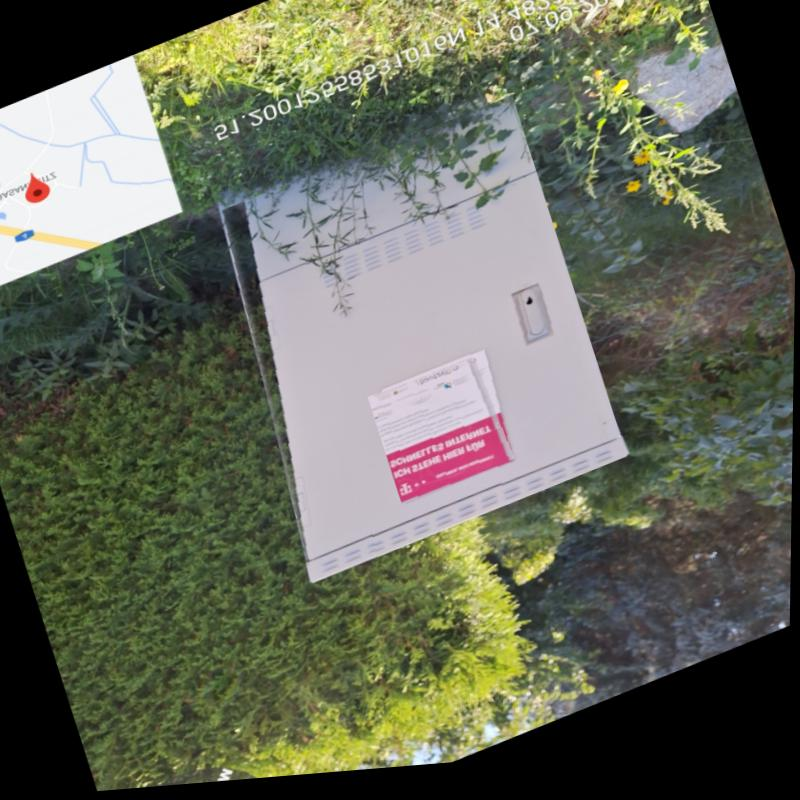NT-Gehause: (249, 104, 628, 588)
Steaker: (368, 357, 518, 514)
